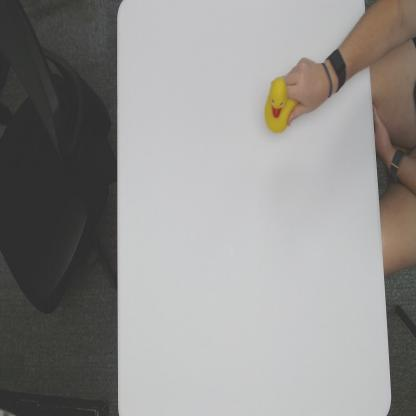Arm: (348, 12, 370, 81)
Duck: (264, 74, 298, 135)
Hand: (286, 57, 332, 127)
